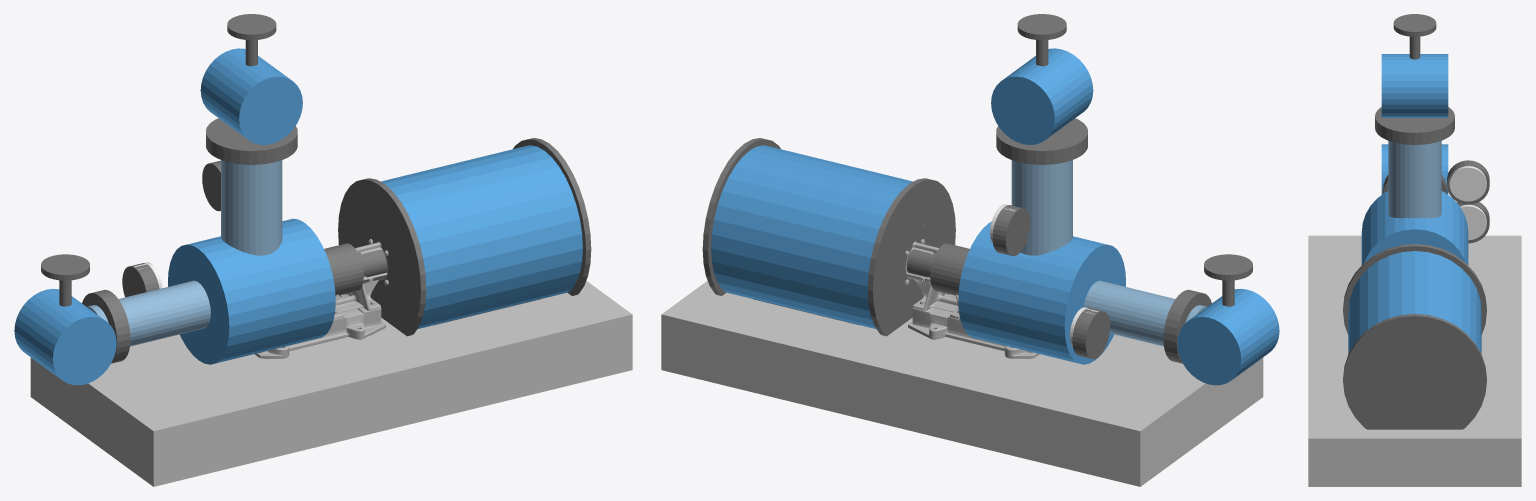
Rendered from pump.glb.
The picture shows the model from 3 angles, left to right: view 1: azimuth 30°, elevation 25°; view 2: azimuth 150°, elevation 25°; view 3: azimuth 270°, elevation 25°; orthographic projection. The views are drawn at different scales.
Parts seen in each view (by area): view 1: PumpBase, ElectricMotor, PumpBody, MotorCap-0.31, Valve_-1.000.2, Valve_-0.300.9, PumpInlet, PumpOutlet, pump, InletFlange, MotorCap0.31, Coupling (+5 smaller); view 2: PumpBase, ElectricMotor, PumpBody, MotorCap-0.31, Valve_-1.000.2, Valve_-0.300.9, PumpInlet, PumpOutlet, pump, InletFlange, MotorCap0.31, Gauge_-0.30.20.5 (+5 smaller); view 3: PumpBase, MotorCap0.31, ElectricMotor, PumpBody, Valve_-0.300.9, PumpInlet, InletFlange, MotorCap-0.31, GaugeFace_-0.30.20.5, ValveWheel_-0.300.9, GaugeFace_-0.60.20.2, Valve_-1.000.2 (+3 smaller).
Part boxes in pixels (x1,y1,x2,y2): PumpBase: [30, 281, 632, 486]; ElectricMotor: [381, 145, 582, 328]; PumpBody: [168, 218, 335, 364]; MotorCap-0.31: [338, 178, 426, 336]; Valve_-1.000.2: [14, 288, 116, 385]; Valve_-0.300.9: [200, 48, 302, 144]; PumpInlet: [221, 160, 282, 255]; PumpOutlet: [87, 280, 210, 346]; pump: [254, 236, 388, 358]; InletFlange: [206, 118, 297, 164]; MotorCap0.31: [513, 138, 591, 295]; Coupling: [324, 243, 363, 295]; PumpBase: [661, 281, 1263, 486]; ElectricMotor: [711, 145, 912, 328]; PumpBody: [958, 221, 1125, 364]; MotorCap-0.31: [867, 178, 955, 336]; Valve_-1.000.2: [1177, 288, 1279, 385]; Valve_-0.300.9: [991, 48, 1093, 144]; PumpInlet: [1011, 160, 1072, 255]; PumpOutlet: [1083, 280, 1206, 346]; pump: [905, 223, 1039, 358]; InletFlange: [996, 118, 1087, 164]; MotorCap0.31: [702, 138, 780, 295]; Gauge_-0.30.20.5: [992, 205, 1030, 256]; PumpBase: [1308, 235, 1521, 486]; MotorCap0.31: [1343, 313, 1486, 429]; ElectricMotor: [1348, 251, 1481, 353]; PumpBody: [1361, 191, 1468, 264]; Valve_-0.300.9: [1381, 54, 1448, 117]; PumpInlet: [1388, 141, 1441, 218]; InletFlange: [1375, 107, 1454, 144]; MotorCap-0.31: [1343, 244, 1486, 334]; GaugeFace_-0.30.20.5: [1449, 166, 1486, 201]; ValveWheel_-0.300.9: [1393, 14, 1436, 36]; GaugeFace_-0.60.20.2: [1460, 204, 1486, 240]; Valve_-1.000.2: [1381, 144, 1448, 194].
Size of the model in its own units: 2.02 by 1.36 by 0.8.
